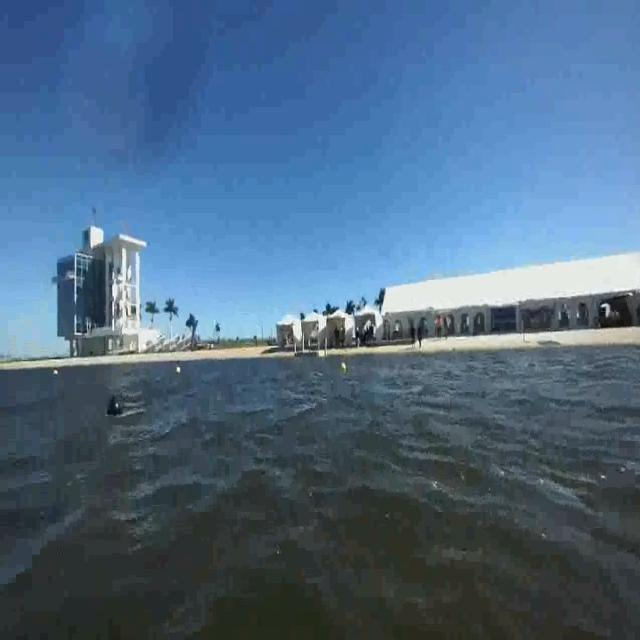black-buoy: (106, 395, 123, 419)
yellow-buoy: (340, 359, 350, 375)
